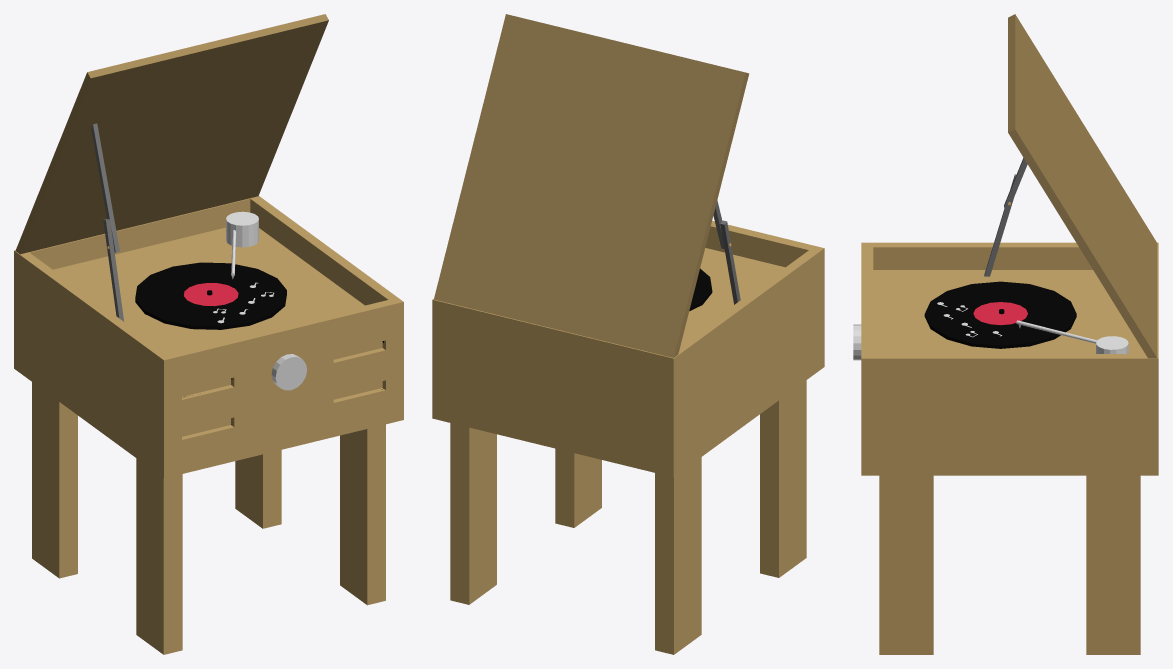
Rendered from record_player.gltf.
3 renders of one model, left to right at view 1: azimuth 30°, elevation 25°; view 2: azimuth 150°, elevation 25°; view 3: azimuth 270°, elevation 25°, orthographic.
Visible parts, largest first — view 1: vinyl_player, vinyl_disk; view 2: vinyl_player; view 3: vinyl_player, vinyl_disk.
Part boxes in pixels (x1=…): vinyl_player: x1=14, y1=14, x2=403, y2=654; vinyl_disk: x1=135, y1=262, x2=286, y2=329; vinyl_player: x1=432, y1=14, x2=824, y2=654; vinyl_player: x1=853, y1=14, x2=1158, y2=654; vinyl_disk: x1=924, y1=281, x2=1076, y2=348.
Bounding box in the file's own units: 3.61 × 7.7 × 4.02.
